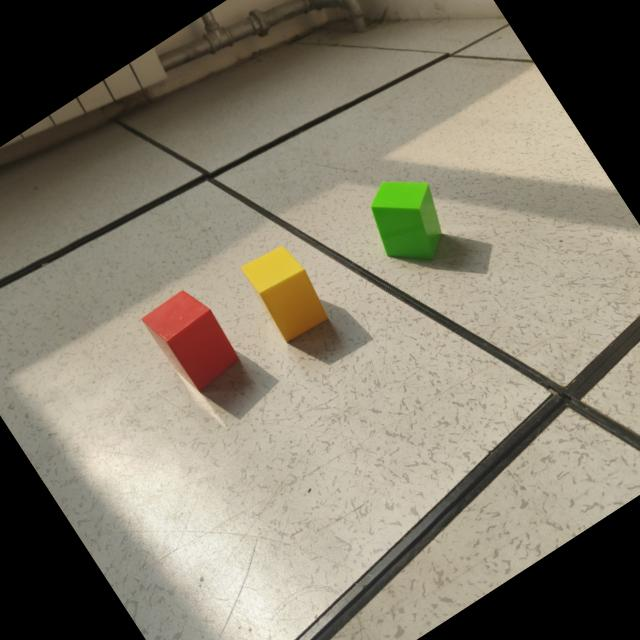green: (371, 181, 444, 265)
red: (142, 290, 241, 393)
yellow: (242, 247, 329, 343)
